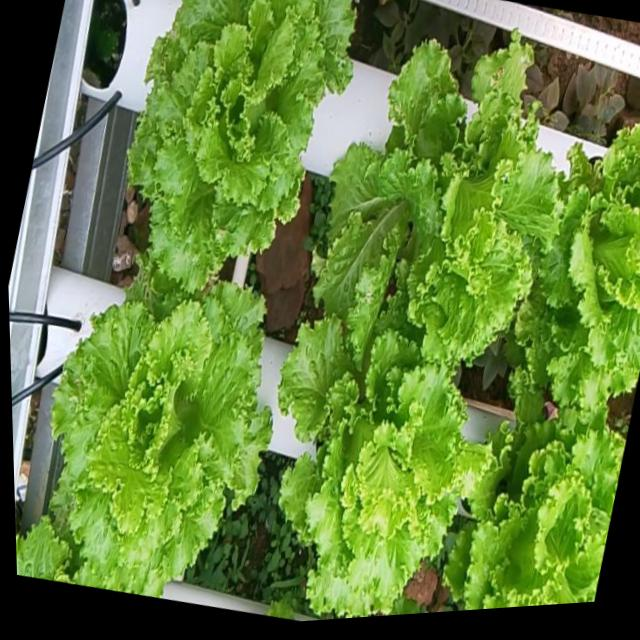Mature: (16, 267, 270, 596), (312, 37, 557, 369), (276, 300, 491, 619), (126, 0, 354, 296), (443, 409, 624, 610), (515, 126, 640, 412)
